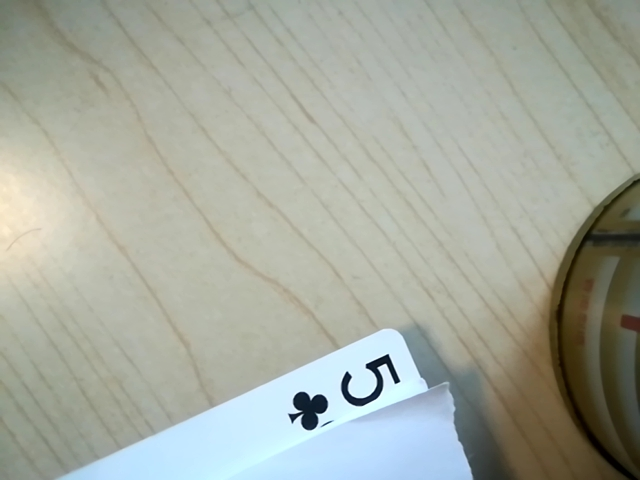mh 5: (284, 345, 422, 431)
